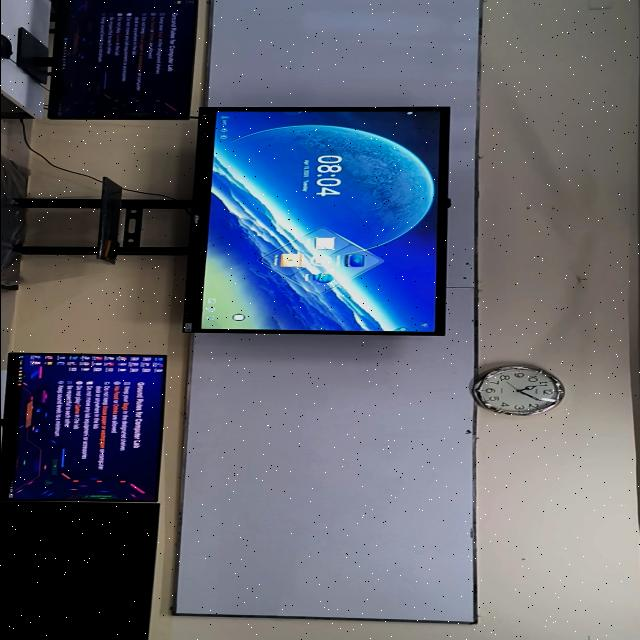Digital board: (183, 107, 449, 335), (199, 111, 442, 334)
Monitor: (0, 353, 164, 502), (0, 502, 158, 640), (48, 0, 197, 118)
Mouse: (0, 34, 12, 59)
